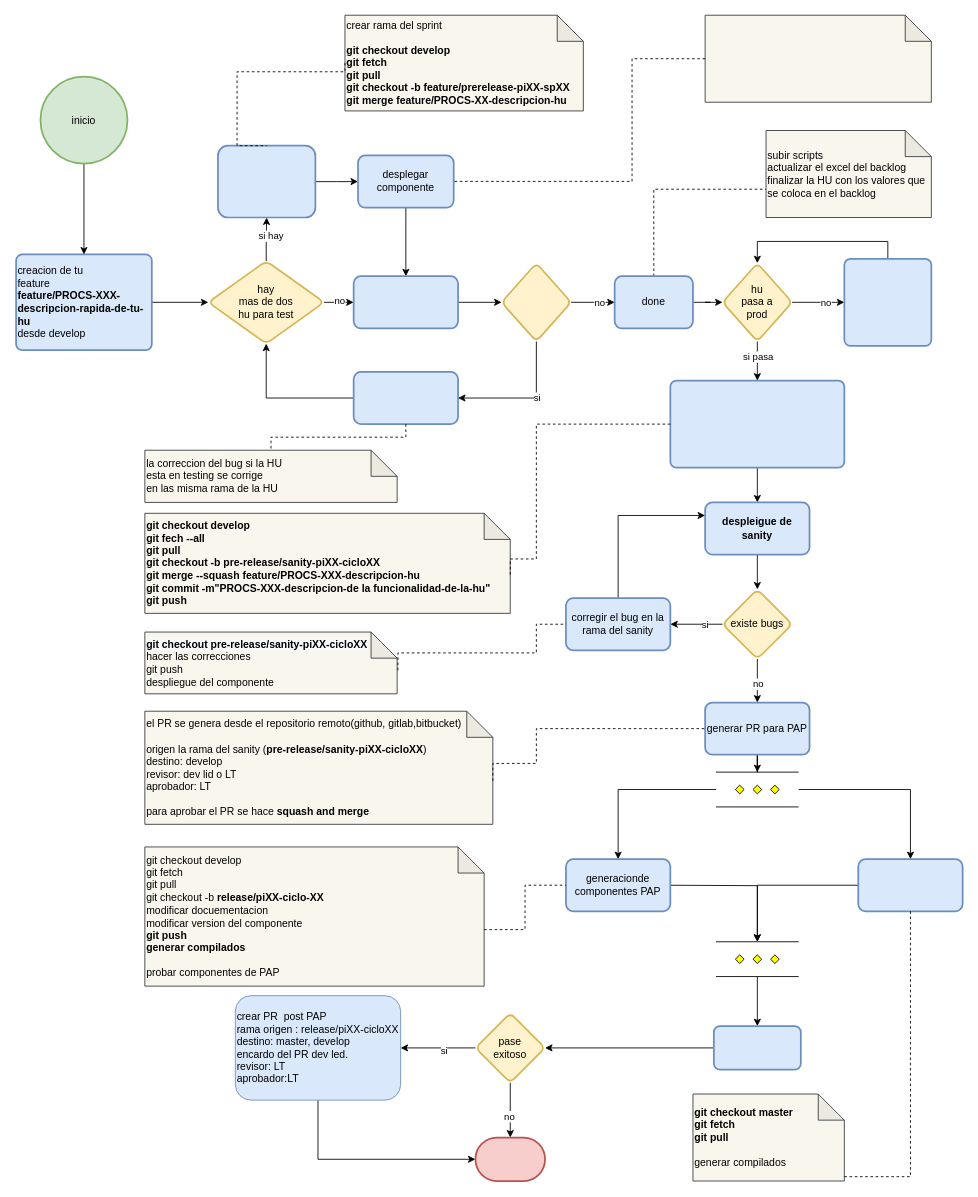
Image size: 978x1197. Some labels were removed from this diagram. The shapes that lost their labels are listed below. From the top down, each one's centre as x and y in pixels, then its label:
the point at 817,58: para el despliegue del componente se usa comandos de imb
the point at 266,181: crear rama si no existe para el sprint
the point at 405,302: Testing
the point at 536,302: se encontro bug
the point at 887,302: espera hasta pasar a prod
the point at 405,398: correccion de bug
the point at 757,423: merge de tu feature con la rama de sanity pre-release/sanity-piXX-ciclo-XX
the point at 910,885: gerenar componentes rollback
the point at 757,1047: pase a produccion
the point at 509,1158: fin
